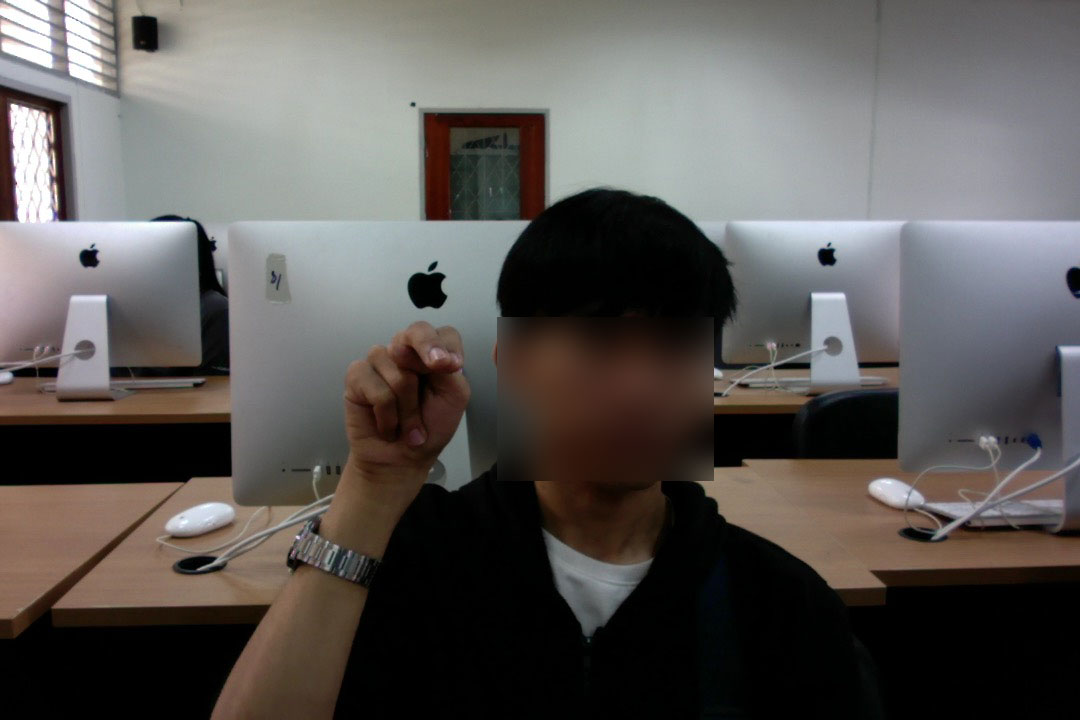nor: (332, 313, 471, 489)
